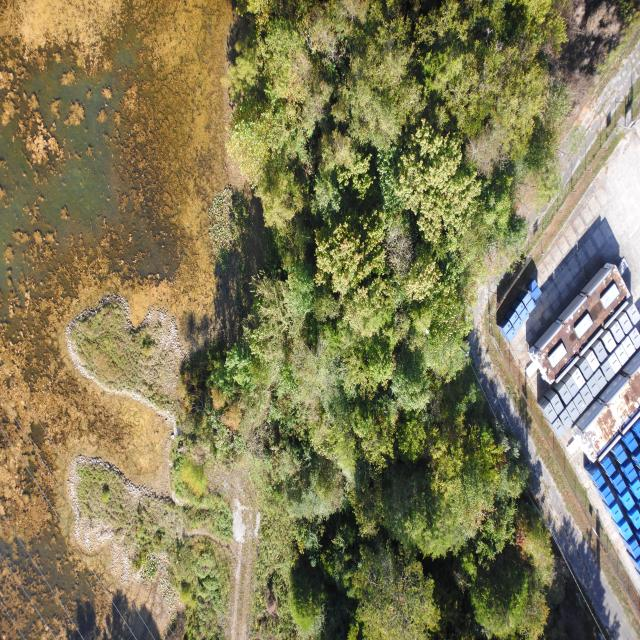Area of Interest: (185, 6, 544, 629)
